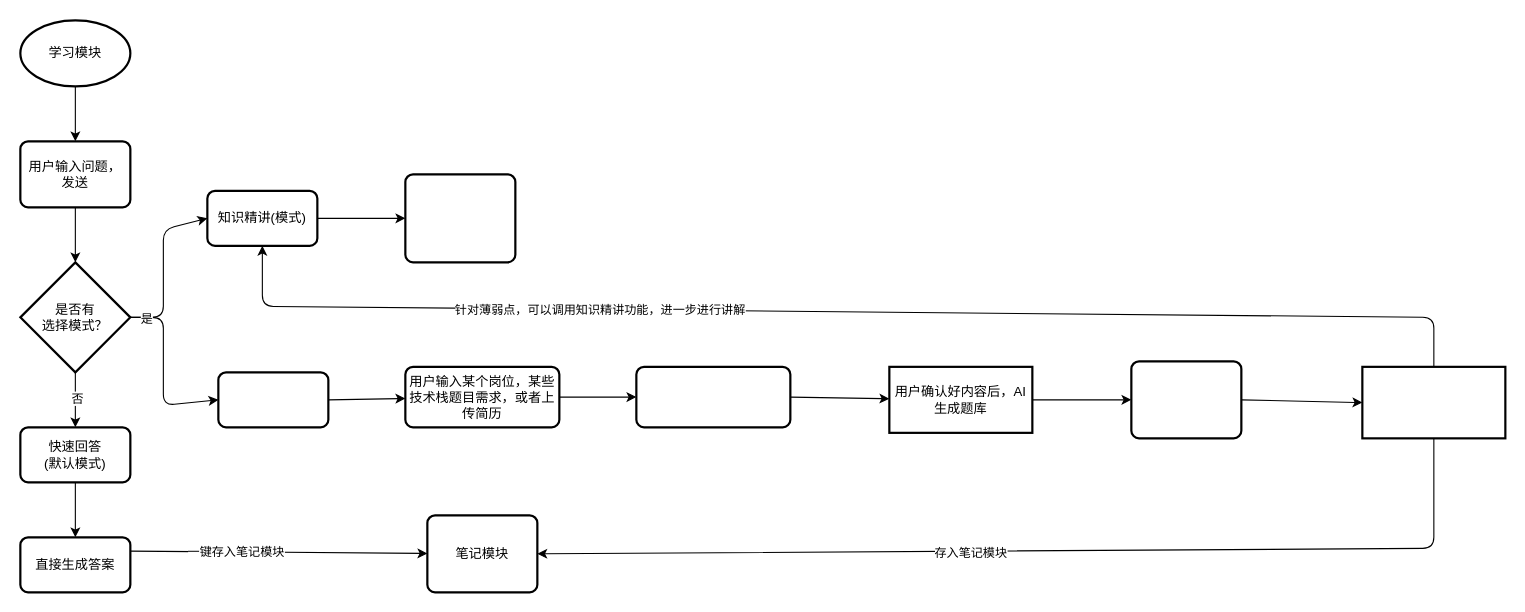
Some shapes in this 1525 by 612 pixel diagram are drawn without their labels. Here are the shapes that lost their labels. From the top down, the box of each, then its label:
(404, 173, 516, 263): AI输出结构化知识卡片+一对一的语音播客讲解
(217, 371, 329, 428): 刷题评测(模式)
(635, 365, 791, 428): AI需要二次跟用户确认题型，题目难度，以及题量
(1130, 360, 1242, 439): 用户进行答题，答题后提交答案
(1361, 365, 1506, 439): AI对答案进行评分，并抽取薄弱点，并对薄弱点进行解答
